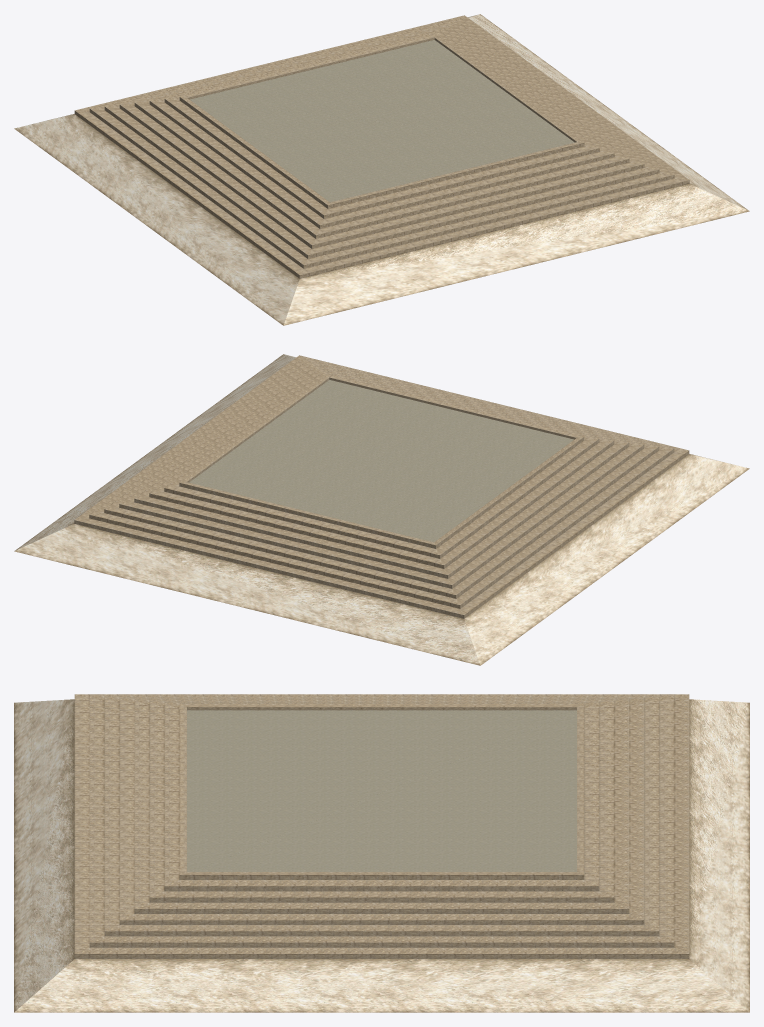
File: ply_tato_garden_lrg_s01_l0.fbx
3 views of the same model, one above another, from view 1: azimuth 30°, elevation 25°; view 2: azimuth 150°, elevation 25°; view 3: azimuth 270°, elevation 25° (orthographic). The views are drawn at different scales.
Parts seen in each view (by area): view 1: mesh_node; view 2: mesh_node; view 3: mesh_node.
Part boxes in pixels (x1,y1,x2,y2): mesh_node: [14, 14, 749, 325]; mesh_node: [14, 354, 749, 665]; mesh_node: [14, 694, 749, 1012].
Bounding box in the file's own units: 49.05 × 5.07 × 49.07.
